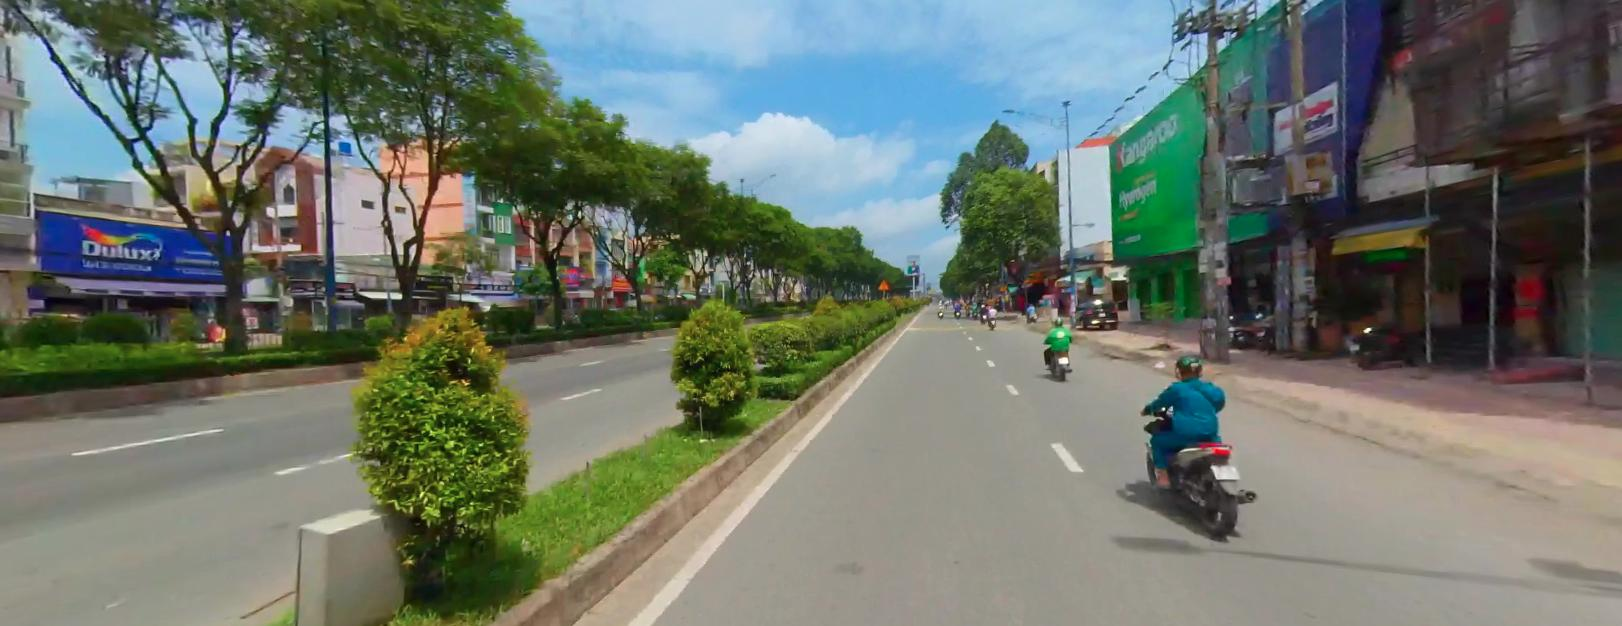Nguy hiem: (877, 277, 890, 289)
